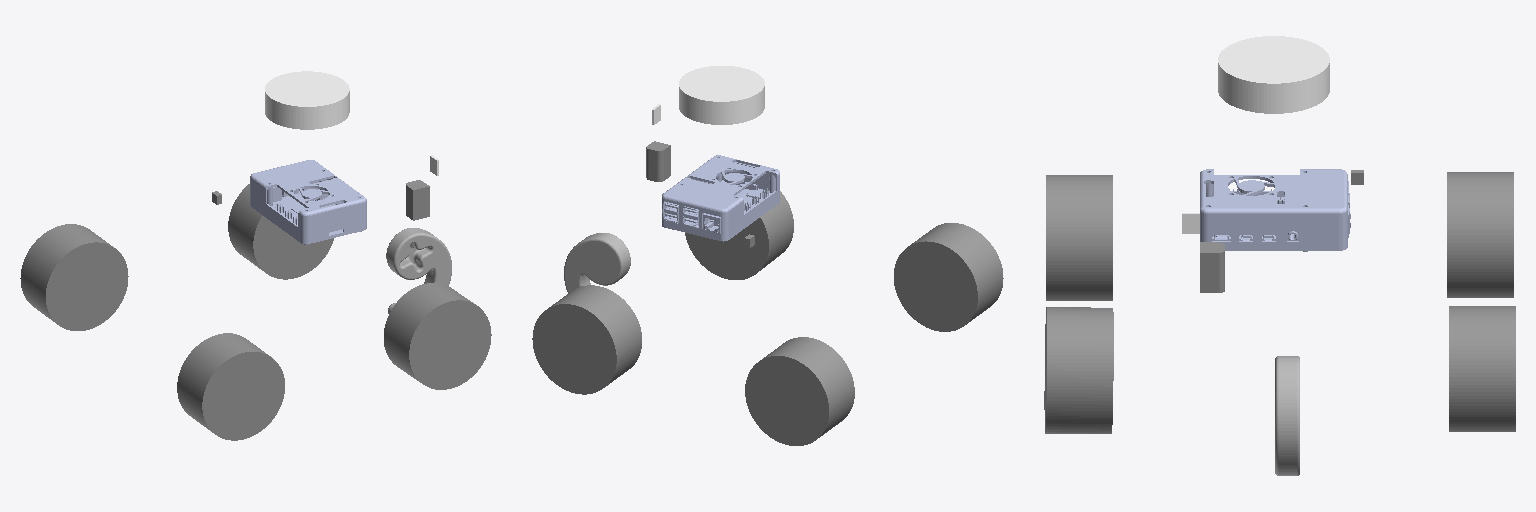
robot.urdf — rover:
<?xml version="1.0"?>
<robot name="rover">
  <material name="mat_cad1eeff">
    <color rgba="0.792157 0.819608 0.933333 1" />
  </material>
  <material name="mat_a0a0a0ff">
    <color rgba="0.627451 0.627451 0.627451 1" />
  </material>
  <material name="mat_bfbfbfff">
    <color rgba="0.74902 0.74902 0.74902 1" />
  </material>
  <material name="mat_ffffffff">
    <color rgba="1 1 1 1" />
  </material>
  <link name="base_link">
    <inertial>
      <origin xyz="0.0123006 -0.000458994 0.0522336" rpy="0 0 0" />
      <mass value="4.64525" />
      <inertia ixx="0.0172817" iyy="0.0367358" izz="0.0356348" ixy="0.000552433" iyz="-0.000184288" ixz="-0.00178452" />
    </inertial>
    <visual>
      <origin xyz="-0.106381 0.0202749 0.00707771" rpy="1.5708 0 0" />
      <geometry>
        <mesh filename="package://rover_description/meshes/base_link_0_Body1.stl" scale="0.001 0.001 0.001" />
      </geometry>
      <material name="mat_cad1eeff" />
    </visual>
    <visual>
      <origin xyz="-0.106365 0.0202749 0.00711236" rpy="1.5708 0 0" />
      <geometry>
        <mesh filename="package://rover_description/meshes/base_link_1_Body2.stl" scale="0.001 0.001 0.001" />
      </geometry>
      <material name="mat_cad1eeff" />
    </visual>
    <visual>
      <origin xyz="-0.106353 0.0202749 0.00711277" rpy="1.5708 0 0" />
      <geometry>
        <mesh filename="package://rover_description/meshes/base_link_2_Body3.stl" scale="0.001 0.001 0.001" />
      </geometry>
      <material name="mat_cad1eeff" />
    </visual>
    <collision>
      <origin xyz="0.0135527 0.00019914 0.073606" rpy="0 0 0" />
      <geometry>
        <box size="0.317164 0.202215 0.177136" />
      </geometry>
    </collision>
  </link>
  <link name="fore_right_wheel">
    <inertial>
      <origin xyz="0.000244648 -0.0199956 0.000342114" rpy="0 0 0" />
      <mass value="1.42445" />
      <inertia ixx="0.000704201" iyy="0.00102831" izz="0.000704247" ixy="-3.96608e-06" iyz="-5.54614e-06" ixz="6.79202e-08" />
    </inertial>
    <visual>
      <origin xyz="-0.202496 0.121044 0.0070156" rpy="1.5708 0 0" />
      <geometry>
        <mesh filename="package://rover_description/meshes/fore_right_wheel_0_Body1.stl" scale="0.001 0.001 0.001" />
      </geometry>
      <material name="mat_a0a0a0ff" />
    </visual>
    <collision>
      <origin xyz="0.000244648 -0.0199956 0.000342114" rpy="-1.5708 0 0" />
      <geometry>
        <cylinder radius="0.0383466" length="0.0416094" />
      </geometry>
    </collision>
  </link>
  <link name="back_right_wheel">
    <inertial>
      <origin xyz="0.000593035 -0.0199879 0.000362408" rpy="0 0 0" />
      <mass value="1.42445" />
      <inertia ixx="0.000704437" iyy="0.00102806" izz="0.000704259" ixy="-9.61023e-06" iyz="-5.87289e-06" ixz="1.74247e-07" />
    </inertial>
    <visual>
      <origin xyz="-0.00155815 0.0753456 -0.0227239" rpy="1.5708 0 0" />
      <geometry>
        <mesh filename="package://rover_description/meshes/back_right_wheel_0_Body1.stl" scale="0.001 0.001 0.001" />
      </geometry>
      <material name="mat_a0a0a0ff" />
    </visual>
    <collision>
      <origin xyz="0.000593035 -0.0199879 0.000362408" rpy="-1.5708 0 0" />
      <geometry>
        <cylinder radius="0.0385866" length="0.0436277" />
      </geometry>
    </collision>
  </link>
  <link name="Component87">
    <inertial>
      <origin xyz="-0.00062017 0.0199904 -1.44118e-05" rpy="0 0 0" />
      <mass value="1.42445" />
      <inertia ixx="0.000704464" iyy="0.00102814" izz="0.000704153" ixy="-1.00512e-05" iyz="-2.33575e-07" ixz="7.24631e-09" />
    </inertial>
    <visual>
      <origin xyz="-0.227255 -0.0313744 -0.0344146" rpy="1.5708 0 0" />
      <geometry>
        <mesh filename="package://rover_description/meshes/Component87_0_Body1.stl" scale="0.001 0.001 0.001" />
      </geometry>
      <material name="mat_a0a0a0ff" />
    </visual>
    <collision>
      <origin xyz="-0.00062017 0.0199904 -1.44118e-05" rpy="-1.5708 0 0" />
      <geometry>
        <cylinder radius="0.0386122" length="0.0424128" />
      </geometry>
    </collision>
  </link>
  <link name="back_left_wheel">
    <inertial>
      <origin xyz="-0.000613365 0.0199906 -1.39496e-05" rpy="0 0 0" />
      <mass value="1.42445" />
      <inertia ixx="0.000704457" iyy="0.00102815" izz="0.000704153" ixy="-9.94102e-06" iyz="-2.26086e-07" ixz="6.93693e-09" />
    </inertial>
    <visual>
      <origin xyz="-0.000613365 0.0399906 -1.39496e-05" rpy="1.5708 0 0" />
      <geometry>
        <mesh filename="package://rover_description/meshes/back_left_wheel_0_Body1.stl" scale="0.001 0.001 0.001" />
      </geometry>
      <material name="mat_a0a0a0ff" />
    </visual>
    <collision>
      <origin xyz="-0.000613365 0.0199906 -1.39496e-05" rpy="-1.5708 0 0" />
      <geometry>
        <cylinder radius="0.0386058" length="0.0423856" />
      </geometry>
    </collision>
  </link>
  <link name="TetsuZakura_Knights_Robot_Tipper_v1">
    <inertial>
      <origin xyz="0.0168147 -0.00727659 0.00302082" rpy="0 0 0" />
      <mass value="0.0332101" />
      <inertia ixx="7.44212e-06" iyy="2.12315e-05" izz="1.50178e-05" ixy="1.26147e-07" iyz="2.32711e-08" ixz="1.60436e-06" />
    </inertial>
    <visual>
      <origin xyz="0.00209597 -0.00500086 -0.000628201" rpy="1.5708 0 0" />
      <geometry>
        <mesh filename="package://rover_description/meshes/TetsuZakura_Knights_Robot_Tipper_v1_0_Body1.stl" scale="0.001 0.001 0.001" />
      </geometry>
      <material name="mat_bfbfbfff" />
    </visual>
    <collision>
      <origin xyz="0.0167848 -0.0075 -0.00156427" rpy="0 0 0" />
      <geometry>
        <box size="0.0746807 0.01502 0.0616036" />
      </geometry>
    </collision>
  </link>
  <link name="Tilt_v1_1">
    <inertial>
      <origin xyz="5.6808e-06 -0.000207909 0.0133798" rpy="0 0 0" />
      <mass value="0.0458217" />
      <inertia ixx="3.55478e-06" iyy="3.55676e-06" izz="1.64288e-06" ixy="-5.41195e-11" iyz="-4.44089e-20" ixz="3.55271e-19" />
    </inertial>
    <visual>
      <origin xyz="-0.216262 0.04094 -0.0797522" rpy="1.5708 0 0" />
      <geometry>
        <mesh filename="package://rover_description/meshes/Tilt_v1_1_0_Body1.stl" scale="0.001 0.001 0.001" />
      </geometry>
      <material name="mat_a0a0a0ff" />
    </visual>
    <collision>
      <origin xyz="0 0 0.0133798" rpy="0 0 0" />
      <geometry>
        <box size="0.0154246 0.0154246 0.0267797" />
      </geometry>
    </collision>
  </link>
  <link name="lidar">
    <inertial>
      <origin xyz="3.42516e-05 0 0.00999994" rpy="0 0 0" />
      <mass value="0.557243" />
      <inertia ixx="0.000175968" iyy="0.000175966" izz="0.000314781" ixy="1.06581e-18" iyz="-3.55271e-19" ixz="4.75465e-07" />
    </inertial>
    <visual>
      <origin xyz="-0.152275 0.024138 -0.183619" rpy="1.5708 0 0" />
      <geometry>
        <mesh filename="package://rover_description/meshes/lidar_0_Body1.stl" scale="0.001 0.001 0.001" />
      </geometry>
      <material name="mat_ffffffff" />
    </visual>
    <collision>
      <origin xyz="3.42516e-05 0 0.00999994" rpy="0 0 0" />
      <geometry>
        <box size="0.0674498 0.0672445 0.0207108" />
      </geometry>
    </collision>
  </link>
  <link name="pan_v1">
    <inertial>
      <origin xyz="0 0.0025 0" rpy="0 0 0" />
      <mass value="0.002512" />
      <inertia ixx="1.86307e-08" iyy="2.67947e-08" izz="1.86307e-08" ixy="-5.55112e-21" iyz="-9.71445e-21" ixz="5.55112e-21" />
    </inertial>
    <visual>
      <origin xyz="-0.226267 0.0435 -0.101" rpy="1.5708 0 0" />
      <geometry>
        <mesh filename="package://rover_description/meshes/pan_v1_0_Body1.stl" scale="0.001 0.001 0.001" />
      </geometry>
      <material name="mat_a0a0a0ff" />
    </visual>
    <collision>
      <origin xyz="0 0.0025 0" rpy="0 0 0" />
      <geometry>
        <box size="0.00802 0.00502 0.00802" />
      </geometry>
    </collision>
  </link>
  <link name="Tilt_v1_2">
    <inertial>
      <origin xyz="0.000207249 -0.00728907 0.0133798" rpy="0 0 0" />
      <mass value="0.0458217" />
      <inertia ixx="3.55478e-06" iyy="3.55676e-06" izz="1.64288e-06" ixy="-5.41386e-11" iyz="-3.15498e-11" ixz="-1.15468e-09" />
    </inertial>
    <visual>
      <origin xyz="-0.21606 0.0338588 -0.0797522" rpy="1.5708 0 0" />
      <geometry>
        <mesh filename="package://rover_description/meshes/Tilt_v1_2_0_Body1.stl" scale="0.001 0.001 0.001" />
      </geometry>
      <material name="mat_a0a0a0ff" />
    </visual>
    <collision>
      <origin xyz="0.00021293 -0.00749698 0.0133798" rpy="0 0 0" />
      <geometry>
        <box size="0.0154408 0.0154251 0.0267887" />
      </geometry>
    </collision>
  </link>
  <link name="camera">
    <inertial>
      <origin xyz="0 0 0" rpy="0 0 0" />
      <mass value="0.0023107" />
      <inertia ixx="5.77544e-08" iyy="3.52587e-08" izz="2.40698e-08" ixy="6.15121e-10" iyz="4.87414e-12" ixz="-2.05022e-11" />
    </inertial>
    <visual>
      <origin xyz="-0.240229 0.0739215 -0.156173" rpy="1.5708 0 0" />
      <geometry>
        <mesh filename="package://rover_description/meshes/camera_0_Body1.stl" scale="0.001 0.001 0.001" />
      </geometry>
      <material name="mat_ffffffff" />
    </visual>
  </link>
  <joint name="fore_right_revolute_joint" type="continuous">
    <parent link="base_link" />
    <child link="fore_right_wheel" />
    <origin xyz="0.0961302 -0.100769 9.5969e-05" rpy="0 0 0" />
    <axis xyz="0 1 0" />
    <dynamics damping="0.01" friction="0.0" />
    <limit effort="100.0" velocity="10.0" />
  </joint>
  <joint name="rare_right_revolute_joint" type="continuous">
    <parent link="base_link" />
    <child link="back_right_wheel" />
    <origin xyz="-0.0933182 -0.100426 -0.000258081" rpy="0 0 0" />
    <axis xyz="0 1 0" />
    <dynamics damping="0.01" friction="0.0" />
    <limit effort="100.0" velocity="10.0" />
  </joint>
  <joint name="fore_left_revolute_joint" type="continuous">
    <parent link="base_link" />
    <child link="Component87" />
    <origin xyz="0.0941321 0.101105 0.00032375" rpy="0 0 0" />
    <axis xyz="0 1 0" />
    <dynamics damping="0.01" friction="0.0" />
    <limit effort="100.0" velocity="10.0" />
  </joint>
  <joint name="rare_left_revolute_joint" type="continuous">
    <parent link="base_link" />
    <child link="back_left_wheel" />
    <origin xyz="-0.0969441 0.10009 -0.000161638" rpy="0 0 0" />
    <axis xyz="0 1 0" />
    <dynamics damping="0.01" friction="0.0" />
    <limit effort="100.0" velocity="10.0" />
  </joint>
  <joint name="tipper_revolute_joint" type="revolute">
    <parent link="base_link" />
    <child link="TetsuZakura_Knights_Robot_Tipper_v1" />
    <origin xyz="0.145412 0.0119474 0.0109593" rpy="0 0 0" />
    <axis xyz="0 1 0" />
    <dynamics damping="0.01" friction="0.0" />
    <limit lower="1.74166e-15" upper="2.58309" effort="100.0" velocity="10.0" />
  </joint>
  <joint name="pan_revolute_joint" type="revolute">
    <parent link="base_link" />
    <child link="Tilt_v1_1" />
    <origin xyz="0.123549 -0.0407343 0.0678237" rpy="0 0 0" />
    <axis xyz="0 0 1" />
    <dynamics damping="0.01" friction="0.0" />
    <limit lower="-0.00986335" upper="2.24161" effort="100.0" velocity="10.0" />
  </joint>
  <joint name="lidar_revolute_joint" type="continuous">
    <parent link="base_link" />
    <child link="lidar" />
    <origin xyz="0.044463 -0.00386306 0.162039" rpy="0 0 0" />
    <axis xyz="0 0 1" />
    <dynamics damping="0.01" friction="0.0" />
    <limit effort="100.0" velocity="10.0" />
  </joint>
  <joint name="stepper_revolute_joint" type="continuous">
    <parent link="base_link" />
    <child link="pan_v1" />
    <origin xyz="-0.00947576 0.0437833 0.0789328" rpy="0 0 0" />
    <axis xyz="0 -1 0" />
    <dynamics damping="0.01" friction="0.0" />
    <limit effort="100.0" velocity="10.0" />
  </joint>
  <joint name="tilt_revolute_joint" type="revolute">
    <parent link="Tilt_v1_1" />
    <child link="Tilt_v1_2" />
    <origin xyz="0.000204849 -0.0074972 0.0267597" rpy="0 0 0" />
    <axis xyz="0 -1 0" />
    <dynamics damping="0.01" friction="0.0" />
    <limit lower="-6.80618" upper="-6.02078" effort="100.0" velocity="10.0" />
  </joint>
  <joint name="camera_rigid_joint" type="fixed">
    <parent link="base_link" />
    <child link="camera" />
    <origin xyz="0.132417 -0.0536466 0.114593" rpy="0 0 0" />
  </joint>
  <gazebo>
    <plugin filename="gz-sim-joint-state-publisher-system" name="gz::sim::systems::JointStatePublisher" />
    <plugin filename="gz-sim-diff-drive-system" name="gz::sim::systems::DiffDrive">
      <left_joint>fore_left_revolute_joint</left_joint>
      <left_joint>rare_left_revolute_joint</left_joint>
      <right_joint>fore_right_revolute_joint</right_joint>
      <right_joint>rare_right_revolute_joint</right_joint>
      <wheel_separation>0.2012</wheel_separation>
      <wheel_radius>0.0385</wheel_radius>
      <topic>cmd_vel</topic>
      <odom_topic>odom</odom_topic>
      <tf_topic>/tf</tf_topic>
      <frame_id>odom</frame_id>
      <child_frame_id>base_link</child_frame_id>
      <odom_publisher_frequency>30</odom_publisher_frequency>
    </plugin>
  </gazebo>
  <gazebo reference="lidar">
    <sensor name="lidar" type="gpu_lidar">
      <topic>scan</topic>
      <update_rate>10</update_rate>
      <always_on>1</always_on>
      <visualize>true</visualize>
      <gz_frame_id>lidar</gz_frame_id>
      <lidar>
        <scan>
          <horizontal>
            <samples>720</samples>
            <min_angle>-3.14159</min_angle>
            <max_angle>3.14159</max_angle>
          </horizontal>
        </scan>
        <range>
          <min>0.15</min>
          <max>12.0</max>
        </range>
      </lidar>
    </sensor>
  </gazebo>
  <gazebo reference="camera">
    <sensor name="camera" type="camera">
      <topic>camera/image_raw</topic>
      <update_rate>30</update_rate>
      <always_on>1</always_on>
      <gz_frame_id>camera</gz_frame_id>
      <camera>
        <horizontal_fov>1.047</horizontal_fov>
        <image>
          <width>640</width>
          <height>480</height>
        </image>
        <clip>
          <near>0.1</near>
          <far>100</far>
        </clip>
      </camera>
    </sensor>
  </gazebo>
</robot>

--- Facts derived from the render (not from the file) ---
Views: 3 orthographic renders of the robot side by side, from view 1: azimuth 30°, elevation 25°; view 2: azimuth 150°, elevation 25°; view 3: azimuth 270°, elevation 25°.
Robot: rover — 11 links, 10 joints (3 revolute, 6 continuous, 1 fixed); root link base_link; default pose: all joints at 0 but 2 set to mid-range because 0 is outside their limits (tipper_revolute_joint = 1.29, tilt_revolute_joint = -6.41).
Links seen in each view (by area): view 1: back_right_wheel, fore_right_wheel, back_left_wheel, base_link, Component87, lidar, TetsuZakura_Knights_Robot_Tipper_v1, Tilt_v1_1; view 2: back_left_wheel, Component87, back_right_wheel, base_link, lidar, fore_right_wheel, TetsuZakura_Knights_Robot_Tipper_v1, Tilt_v1_1; view 3: base_link, fore_right_wheel, back_right_wheel, Component87, back_left_wheel, lidar, TetsuZakura_Knights_Robot_Tipper_v1, Tilt_v1_1.
Boxes of the visible links, bbox=[...] form: back_right_wheel: bbox=[177, 333, 284, 440]; fore_right_wheel: bbox=[384, 283, 491, 389]; back_left_wheel: bbox=[20, 224, 128, 330]; base_link: bbox=[250, 160, 366, 244]; Component87: bbox=[228, 184, 333, 279]; lidar: bbox=[265, 71, 349, 129]; TetsuZakura_Knights_Robot_Tipper_v1: bbox=[386, 228, 451, 313]; Tilt_v1_1: bbox=[406, 180, 429, 220]; back_left_wheel: bbox=[745, 337, 854, 445]; Component87: bbox=[532, 285, 641, 394]; back_right_wheel: bbox=[894, 223, 1003, 331]; base_link: bbox=[662, 155, 779, 241]; lidar: bbox=[679, 66, 764, 124]; fore_right_wheel: bbox=[685, 191, 793, 279]; TetsuZakura_Knights_Robot_Tipper_v1: bbox=[564, 233, 630, 292]; Tilt_v1_1: bbox=[646, 141, 670, 181]; base_link: bbox=[1200, 169, 1350, 251]; fore_right_wheel: bbox=[1044, 307, 1113, 433]; back_right_wheel: bbox=[1046, 175, 1112, 300]; Component87: bbox=[1449, 306, 1515, 431]; back_left_wheel: bbox=[1447, 172, 1513, 297]; lidar: bbox=[1218, 36, 1329, 113]; TetsuZakura_Knights_Robot_Tipper_v1: bbox=[1275, 356, 1299, 475]; Tilt_v1_1: bbox=[1200, 242, 1224, 292].
Bounding box of the posed robot: 0.3142 × 0.2827 × 0.2269 m (x, y, z).
10 mesh visuals loaded from 13 distinct referenced files (10 binary STL); not drawn: 3 (reference not matched to a file when rendering).
